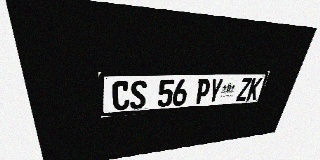5: (157, 80, 174, 107)
6: (172, 79, 189, 106)
C: (112, 81, 130, 111)
K: (246, 78, 263, 100)
P: (194, 79, 211, 104)
S: (130, 80, 147, 109)
Y: (207, 79, 224, 103)
Z: (236, 78, 252, 101)
